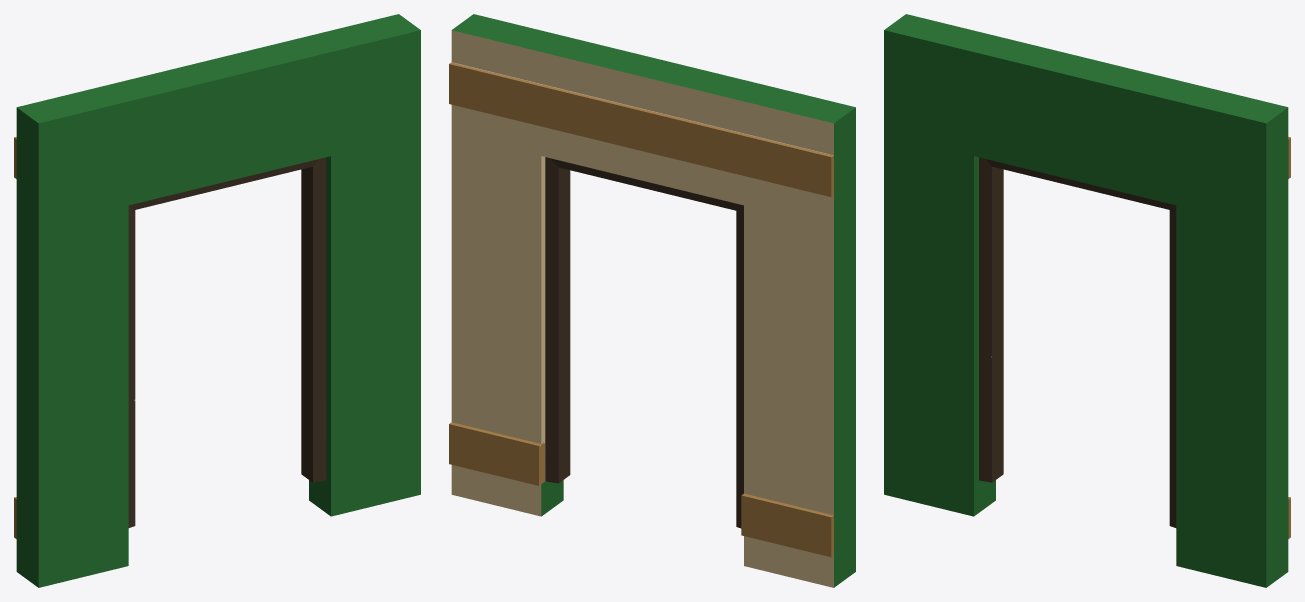
The model's file is Door Wall.fbx.
The picture shows the model from 3 angles, left to right: view 1: azimuth 30°, elevation 25°; view 2: azimuth 150°, elevation 25°; view 3: azimuth 330°, elevation 25°; orthographic projection.
Parts seen in each view (by area): view 1: Door Wall; view 2: Door Wall; view 3: Door Wall.
Part boxes in pixels (left/top/right/bottom): Door Wall: left=14, top=14, right=420, bottom=587; Door Wall: left=449, top=14, right=855, bottom=587; Door Wall: left=884, top=14, right=1290, bottom=587.
Size of the model in its own units: 200 by 232 by 22.31.
